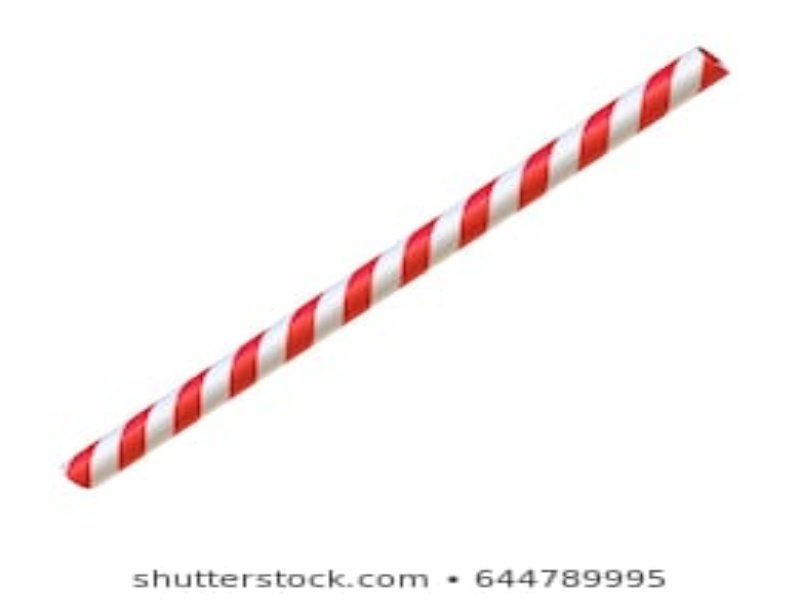straw: (52, 46, 731, 499)
